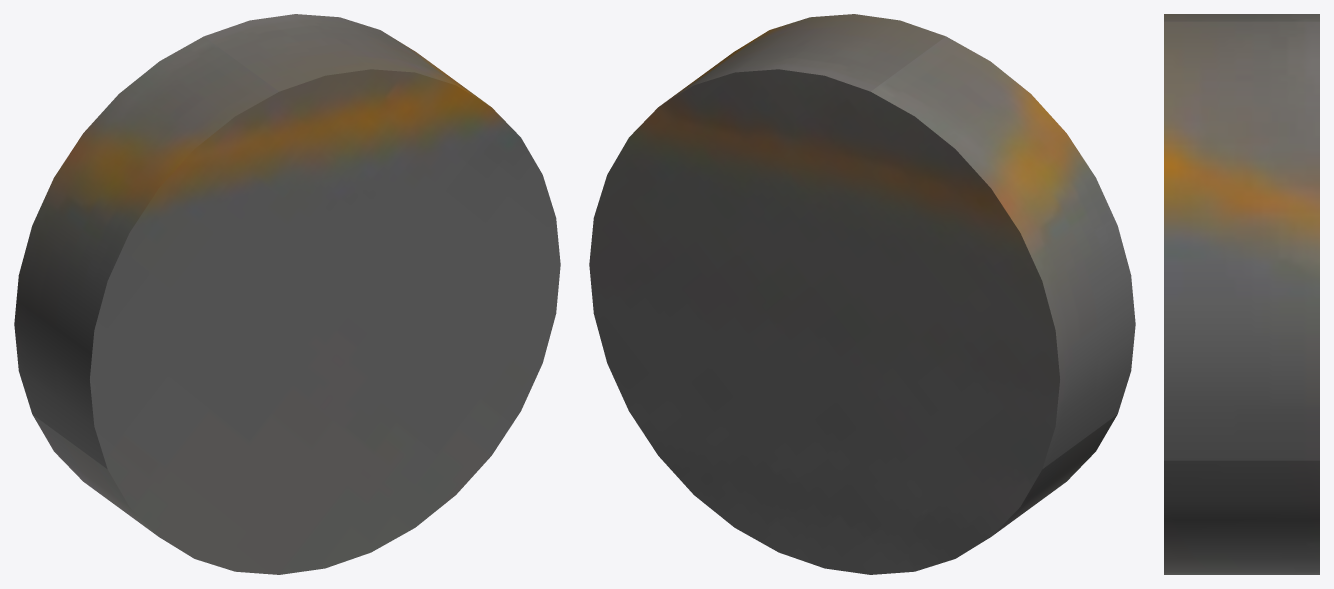
The model's file is action_button_1_1__button_cap.glb.
3 renders of one model, left to right at view 1: azimuth 30°, elevation 25°; view 2: azimuth 150°, elevation 25°; view 3: azimuth 270°, elevation 25°, orthographic. The views are drawn at different scales.
Visible parts, largest first — view 1: geometry_0; view 2: geometry_0; view 3: geometry_0.
Boxes of the visible parts, <box> form: geometry_0: <box>14,14,560,574</box>; geometry_0: <box>589,14,1135,574</box>; geometry_0: <box>1164,14,1319,574</box>.
Size of the model in its own units: 0.036 by 0.036 by 0.01.
Materials: 1 (1 with a texture image).
